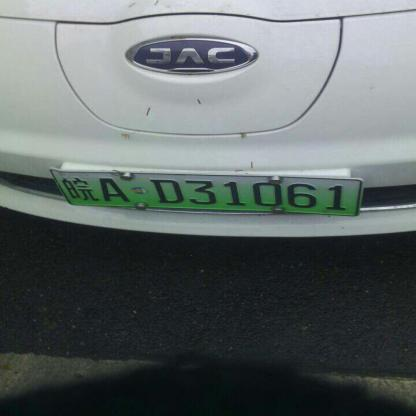lp: (53, 170, 71, 214)
